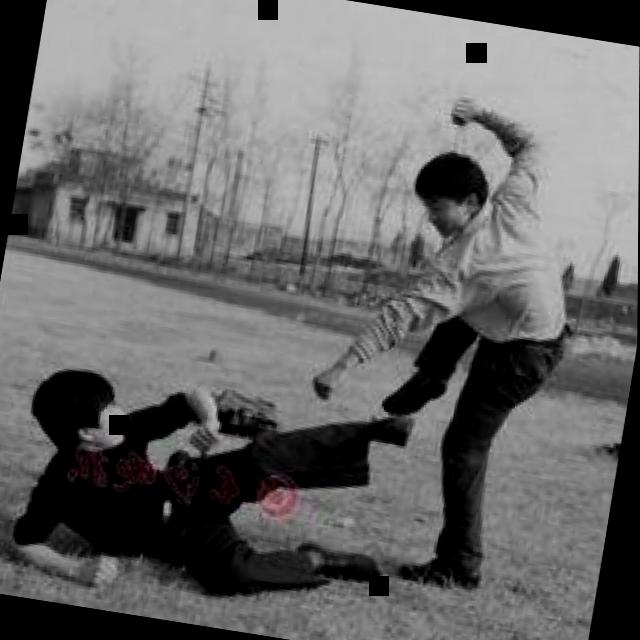Fall-Detected: (1, 320, 434, 624)
